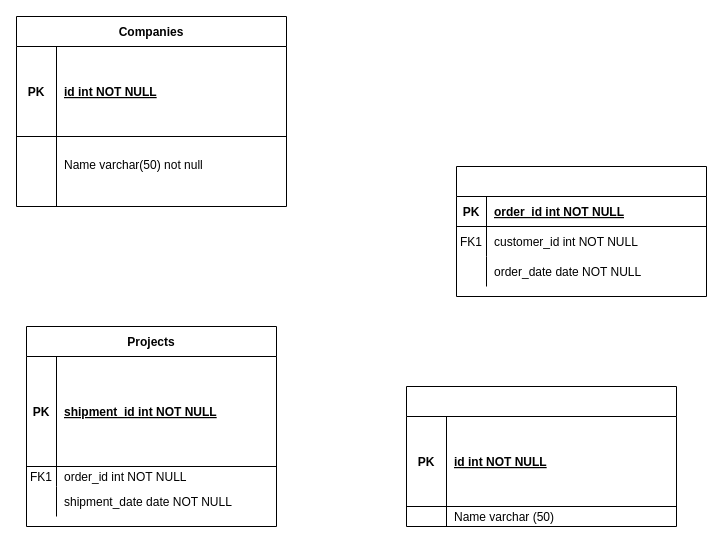
Image size: 723x543. Some labels were removed from this diagram. The box of each missing label's shape, as (x1, y1, x2, y2) in pixels:
Users: (406, 386, 676, 526)
Users_has_companies: (456, 166, 706, 296)
